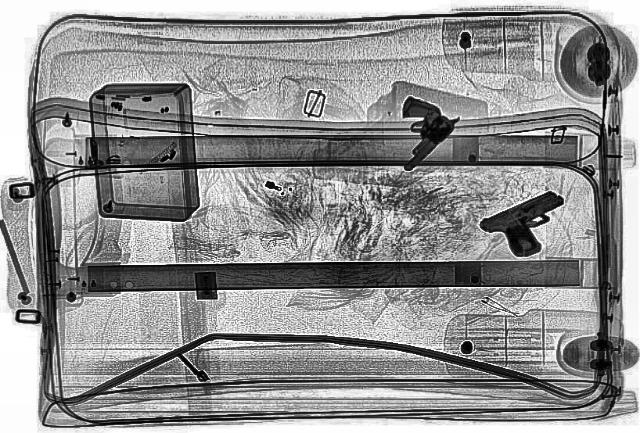Gun: (346, 92, 466, 174), (472, 188, 594, 260)
